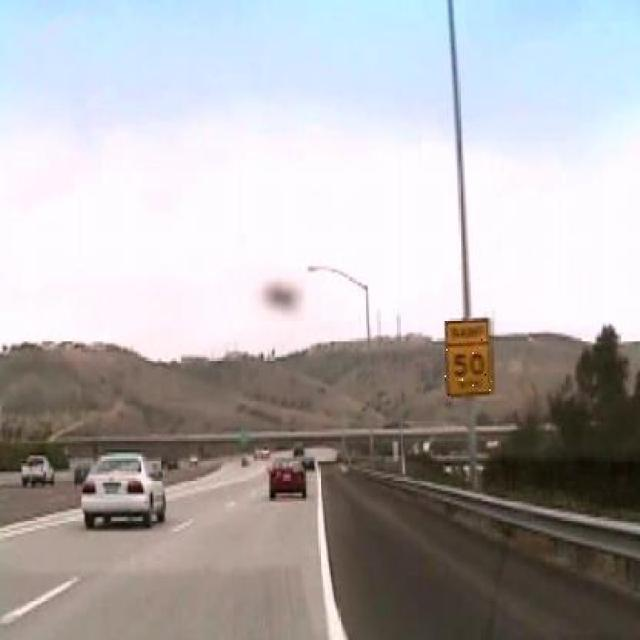rampSpeedAdvisory50: (446, 317, 496, 398)
